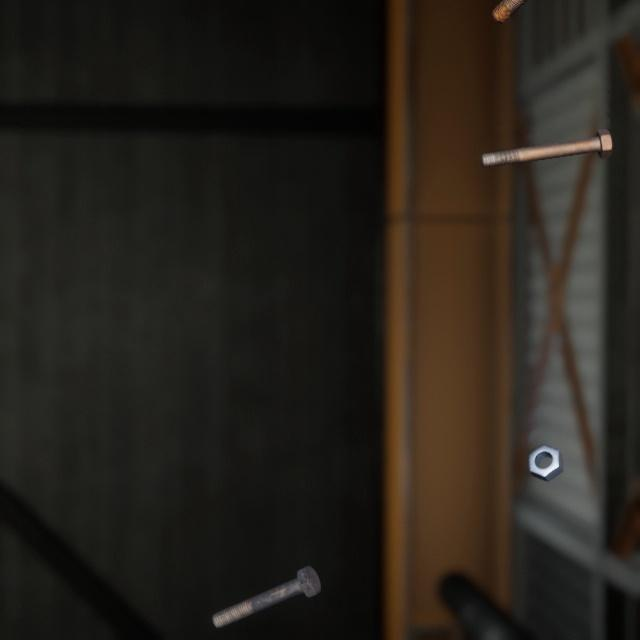bolt: (207, 536, 325, 609), (476, 111, 617, 158), (487, 0, 527, 22)
nut: (524, 419, 567, 465)
